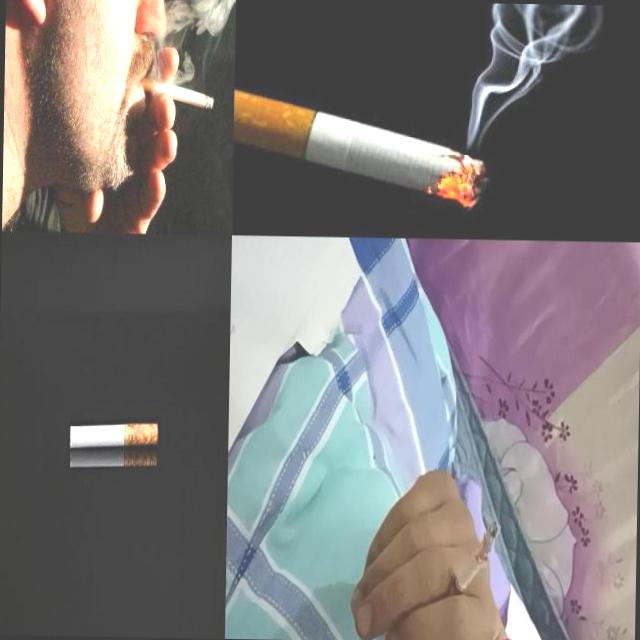cigarette: (232, 84, 488, 209), (351, 463, 508, 640), (132, 72, 215, 110), (69, 420, 160, 450), (69, 448, 157, 470)
